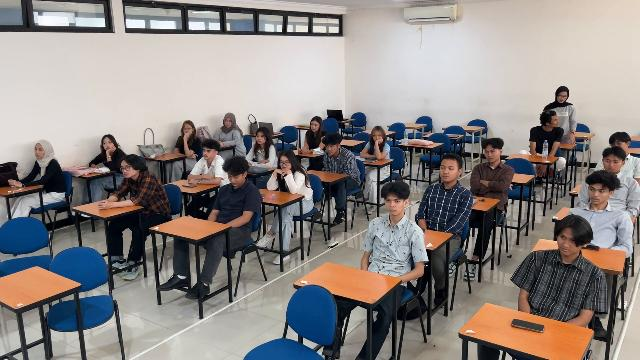fokus: (557, 232, 578, 255), (588, 183, 608, 204), (440, 162, 457, 181), (385, 196, 401, 214), (603, 157, 621, 172), (120, 160, 134, 178), (610, 139, 626, 153), (484, 147, 498, 161), (103, 138, 114, 151), (280, 157, 291, 170), (35, 144, 44, 159), (202, 148, 213, 159), (256, 132, 266, 144), (183, 123, 192, 135), (326, 144, 335, 154), (373, 132, 382, 142), (224, 118, 232, 128), (311, 121, 319, 131)
